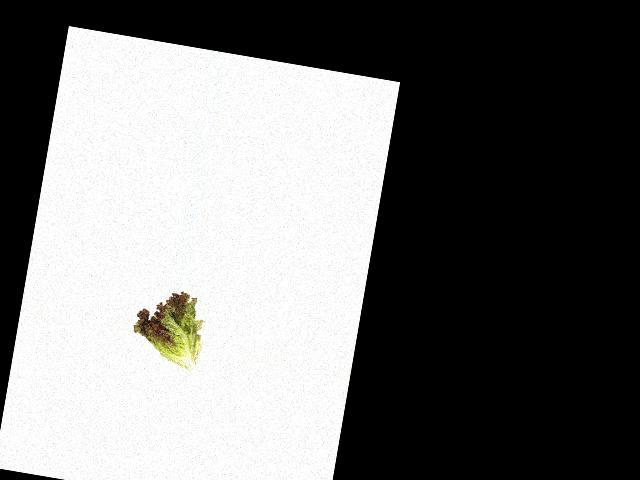lettuce: (129, 284, 209, 370)
